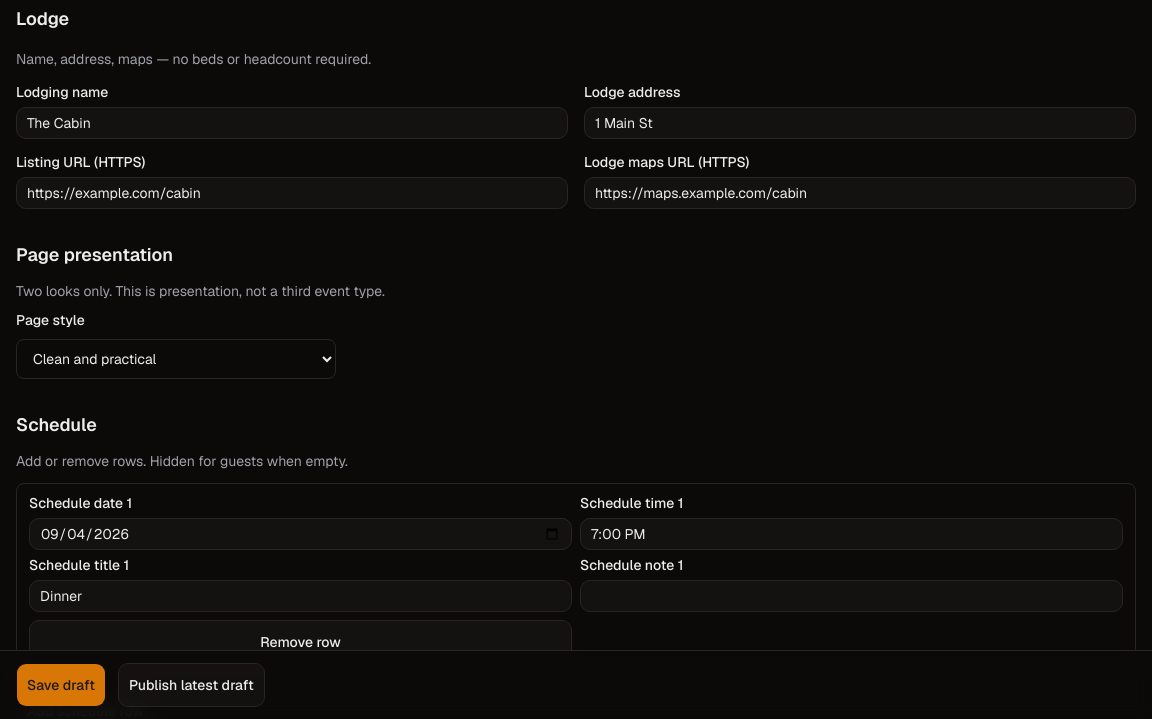
Test: HostEditor draft review safety › invalidates acknowledgement and saved state when Page style changes
(page scrolled)
Select "Editorial and celebratory" in the dropdown labelled "Page style" at (176,359), box [16,339,336,379]
(page scrolled)
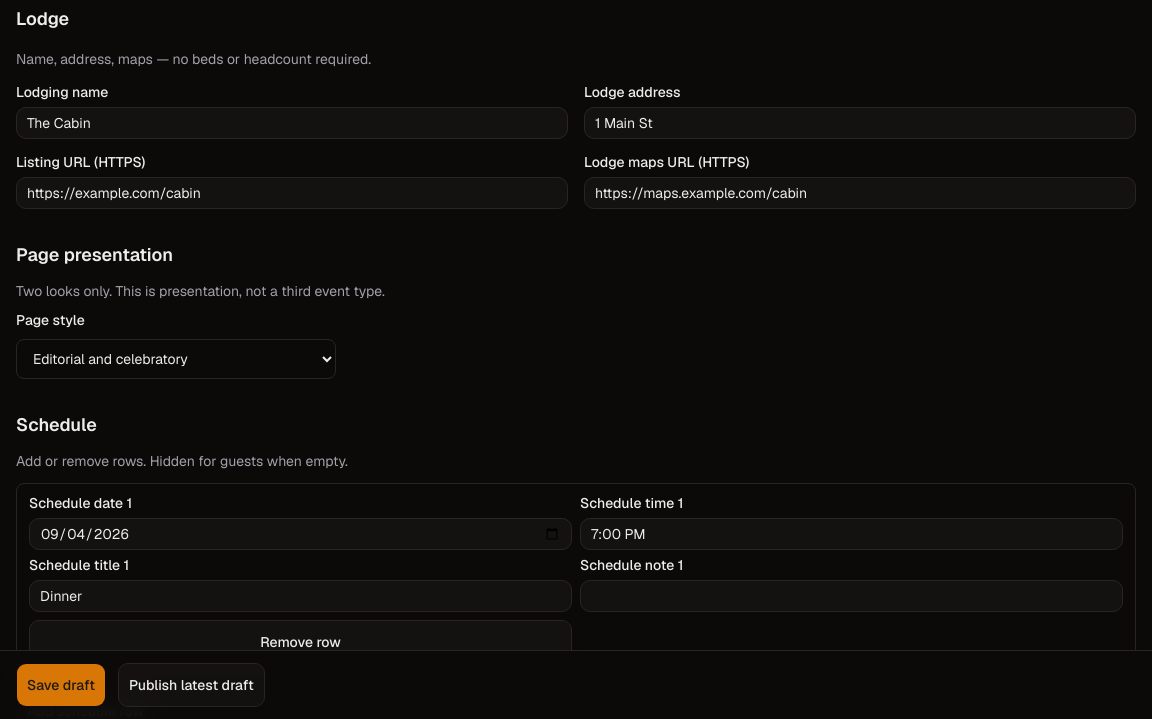
Click the button "Publish latest draft" at (191,685), box [118,663,265,707]
(page scrolled)
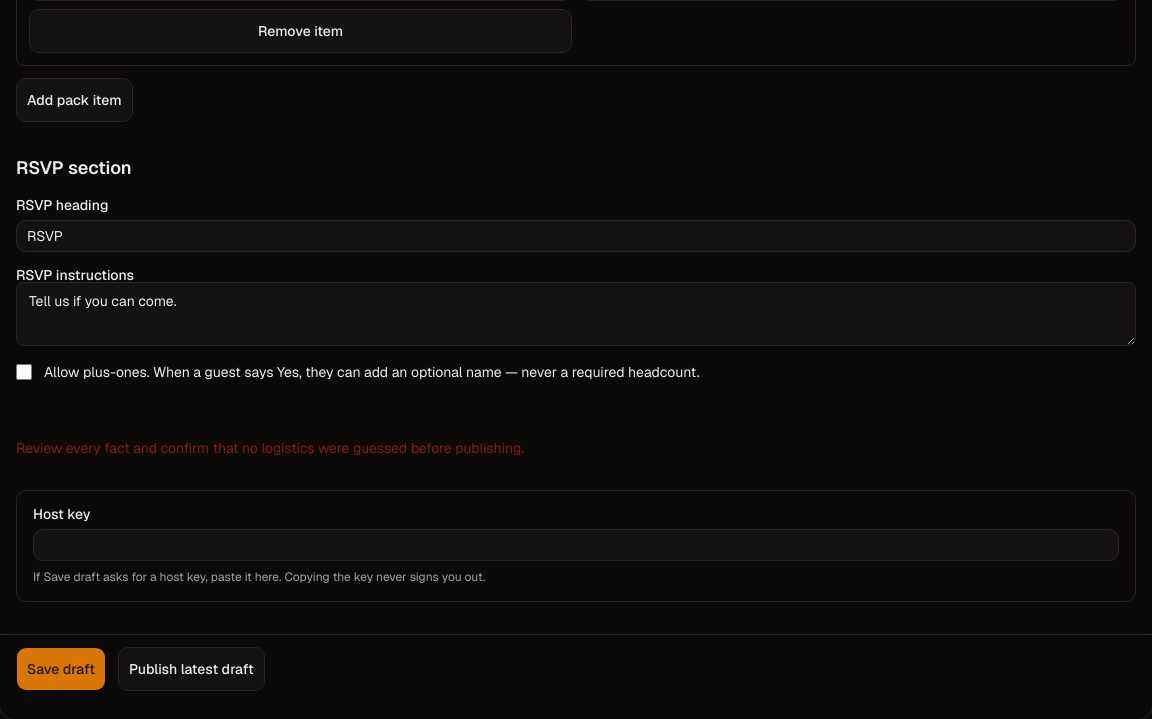
Now the message shows "Review every fact", box [16,439,524,457]
